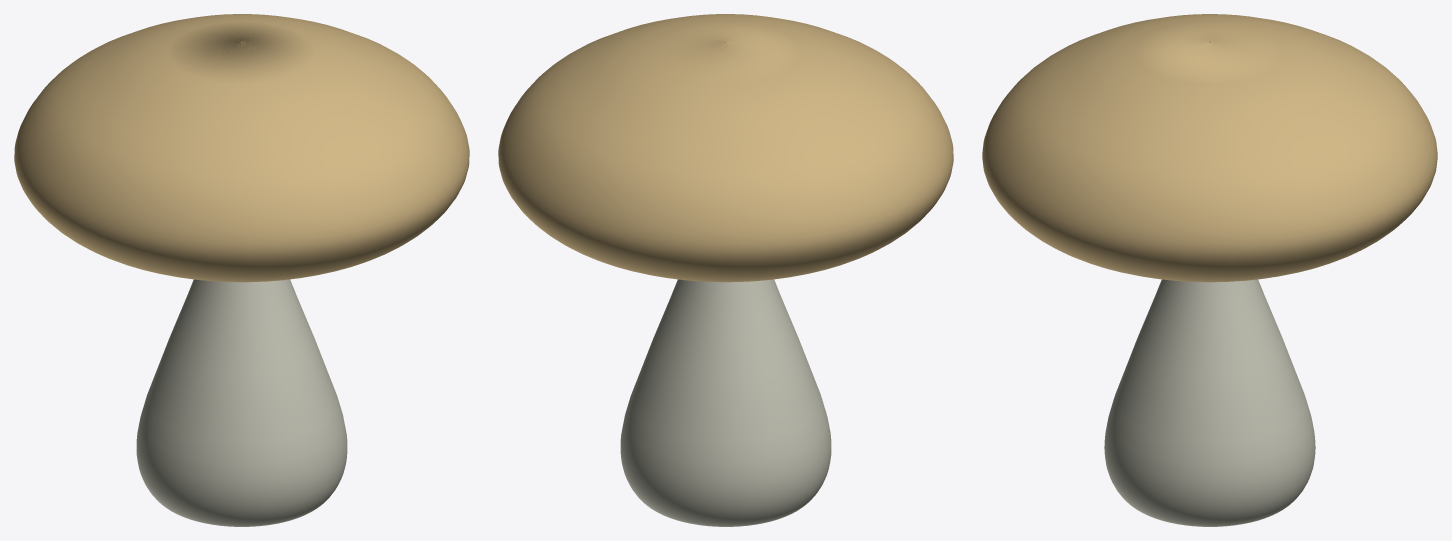
Rendered from Mushroom 2.fbx.
3 views of the same model, side by side, from view 1: azimuth 30°, elevation 25°; view 2: azimuth 150°, elevation 25°; view 3: azimuth 270°, elevation 25° (orthographic).
Visible parts, largest first — view 1: mushroom2; view 2: mushroom2; view 3: mushroom2.
Boxes of the visible parts, x1,y1,x2,y2 form: mushroom2: (14, 14, 469, 526); mushroom2: (498, 14, 953, 526); mushroom2: (982, 14, 1437, 526).
Bounding box in the file's own units: 79.34 × 86.38 × 79.34.
